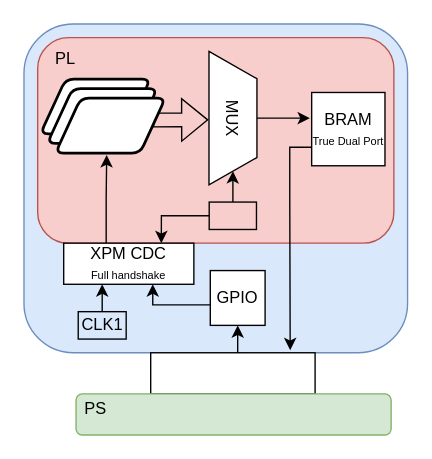
This 432x459 diagram has some shape labels left out. The shapes that lost their labels are listed below. From the top down, each one's centre as x and y in pixels, then its label:
At (x=109, y=125): "16bit SIGNALS".
At (x=232, y=215): "CLK2".
At (x=232, y=372): "AXI interconnect".
